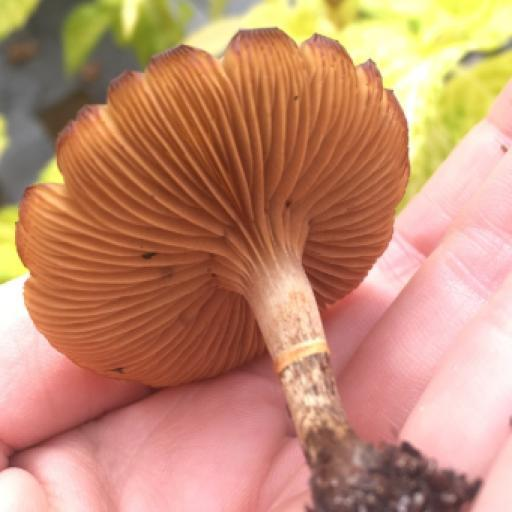mushroom: (9, 19, 419, 420)
